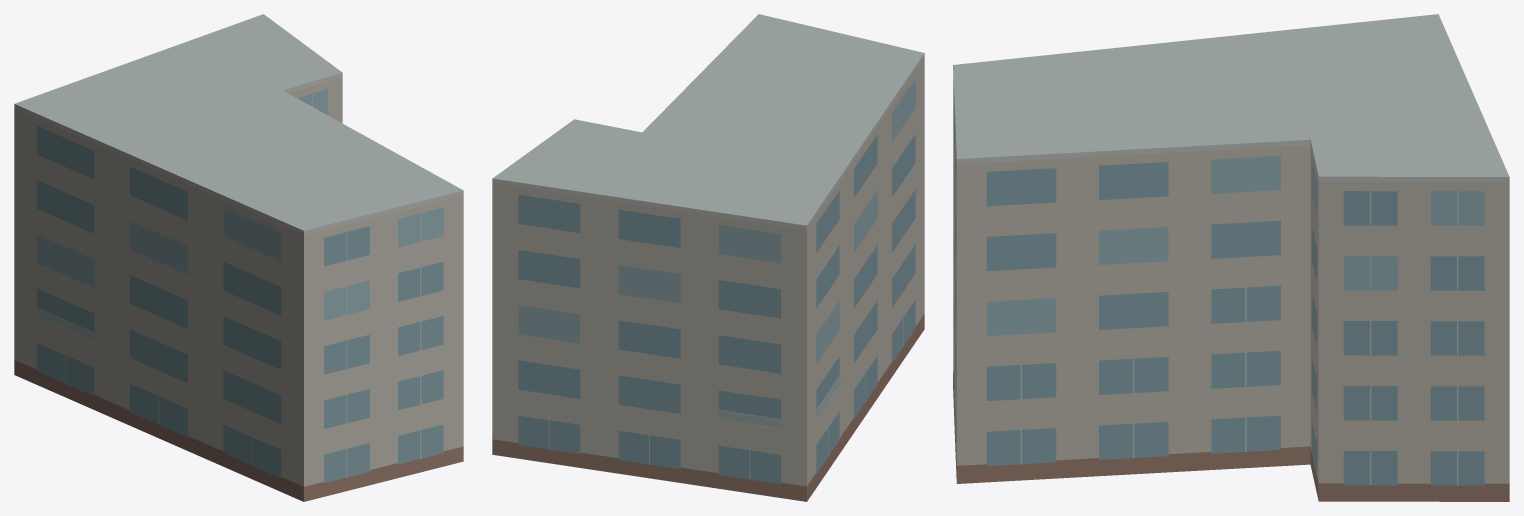
Rendered from survey-upis-32497160.glb.
The picture shows the model from 3 angles, left to right: view 1: azimuth 30°, elevation 25°; view 2: azimuth 150°, elevation 25°; view 3: azimuth 270°, elevation 25°; orthographic projection. The views are drawn at different scales.
Visible parts, largest first — view 1: survey-upis-32497160.tmp; view 2: survey-upis-32497160.tmp; view 3: survey-upis-32497160.tmp.
Part boxes in pixels (x1=…): survey-upis-32497160.tmp: x1=14, y1=14, x2=463, y2=501; survey-upis-32497160.tmp: x1=492, y1=14, x2=924, y2=501; survey-upis-32497160.tmp: x1=953, y1=14, x2=1509, y2=501.
Bounding box in the file's own units: 16 × 14.85 × 23.07.
